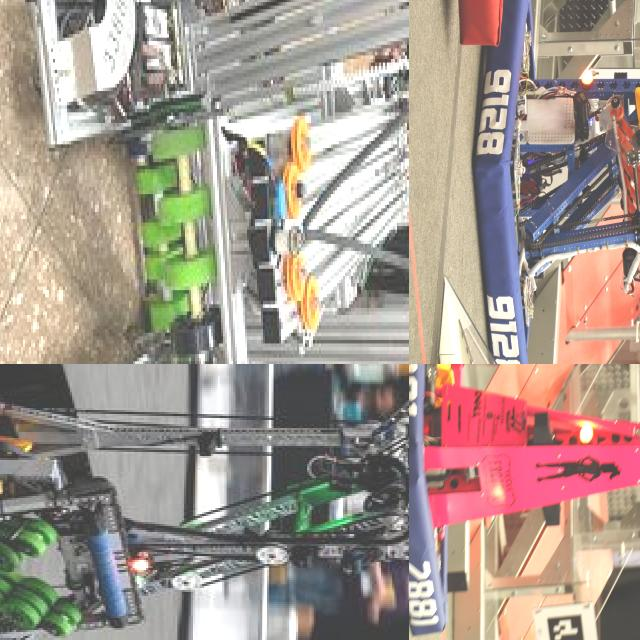FRC-Robots: (37, 0, 409, 364), (0, 364, 409, 640), (451, 0, 640, 364), (409, 364, 640, 623), (420, 0, 553, 65)
